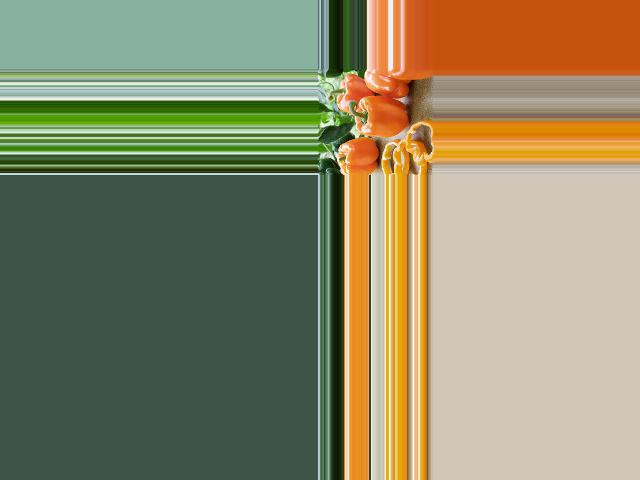bell_pepper: (363, 69, 412, 97)
